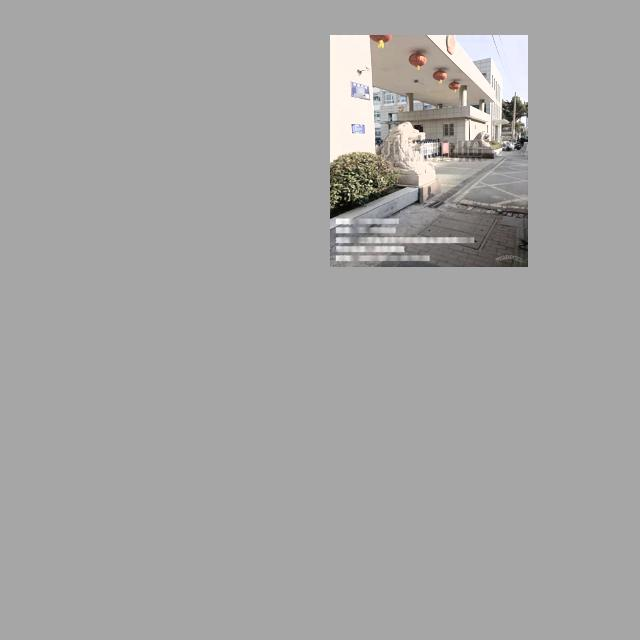good: (413, 208, 499, 252)
